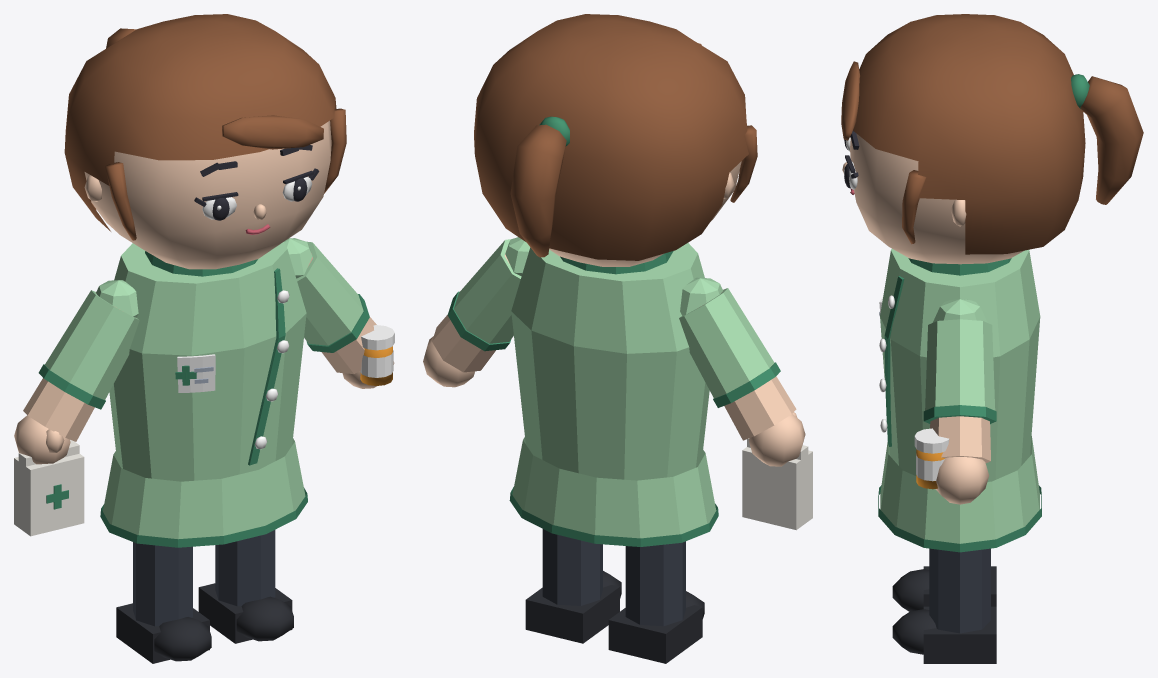
The model's file is pharmacist.glb.
The picture shows the model from 3 angles, left to right: view 1: azimuth 30°, elevation 25°; view 2: azimuth 150°, elevation 25°; view 3: azimuth 270°, elevation 25°; orthographic projection.
Visible parts, largest first — view 1: Torso, Hair, Head, TunicHem, SleeveR, RxBag, LegR, SleeveL, LegL, HairFringe, ArmR, ToeR (+17 smaller); view 2: Hair, Torso, TunicHem, SleeveR, HairTail, LegR, RxBag, SleeveL, LegL, ShoeR, ShoeL, ArmR (+11 smaller); view 3: Hair, Torso, TunicHem, Head, SleeveL, LegL, HairTail, ShoeL, ArmL, HandL, TunicHemTrim, ToeL (+9 smaller).
Part boxes in pixels (x1=…): Torso: x1=109, y1=242, x2=306, y2=481; Hair: x1=64, y1=14, x2=336, y2=231; Head: x1=84, y1=120, x2=331, y2=269; TunicHem: x1=103, y1=438, x2=305, y2=539; SleeveR: x1=45, y1=290, x2=139, y2=399; RxBag: x1=14, y1=453, x2=84, y2=536; LegR: x1=133, y1=542, x2=192, y2=626; SleeveL: x1=296, y1=241, x2=363, y2=345; LegL: x1=215, y1=530, x2=275, y2=606; HairFringe: x1=222, y1=115, x2=323, y2=149; ArmR: x1=23, y1=307, x2=119, y2=441; ToeR: x1=154, y1=617, x2=211, y2=661; Hair: x1=474, y1=14, x2=748, y2=260; Torso: x1=511, y1=243, x2=709, y2=480; TunicHem: x1=512, y1=437, x2=716, y2=538; SleeveR: x1=679, y1=288, x2=774, y2=398; HairTail: x1=510, y1=124, x2=566, y2=257; LegR: x1=625, y1=541, x2=685, y2=626; RxBag: x1=742, y1=447, x2=812, y2=530; SleeveL: x1=454, y1=239, x2=521, y2=343; LegL: x1=542, y1=529, x2=602, y2=605; ShoeR: x1=608, y1=605, x2=702, y2=663; ShoeL: x1=525, y1=585, x2=619, y2=643; ArmR: x1=697, y1=292, x2=796, y2=440; Hair: x1=853, y1=14, x2=1085, y2=254; Torso: x1=880, y1=248, x2=1040, y2=481; TunicHem: x1=880, y1=436, x2=1039, y2=543; Head: x1=850, y1=133, x2=1023, y2=264; SleeveL: x1=925, y1=319, x2=995, y2=410; LegL: x1=929, y1=548, x2=990, y2=633; HairTail: x1=1080, y1=76, x2=1143, y2=204; ShoeL: x1=923, y1=606, x2=996, y2=663; ArmL: x1=930, y1=416, x2=990, y2=463; HandL: x1=935, y1=457, x2=989, y2=504; TunicHemTrim: x1=878, y1=485, x2=1041, y2=552; ToeL: x1=892, y1=609, x2=936, y2=654.
Bounding box in the file's own units: 1.34 × 2.04 × 0.942.
